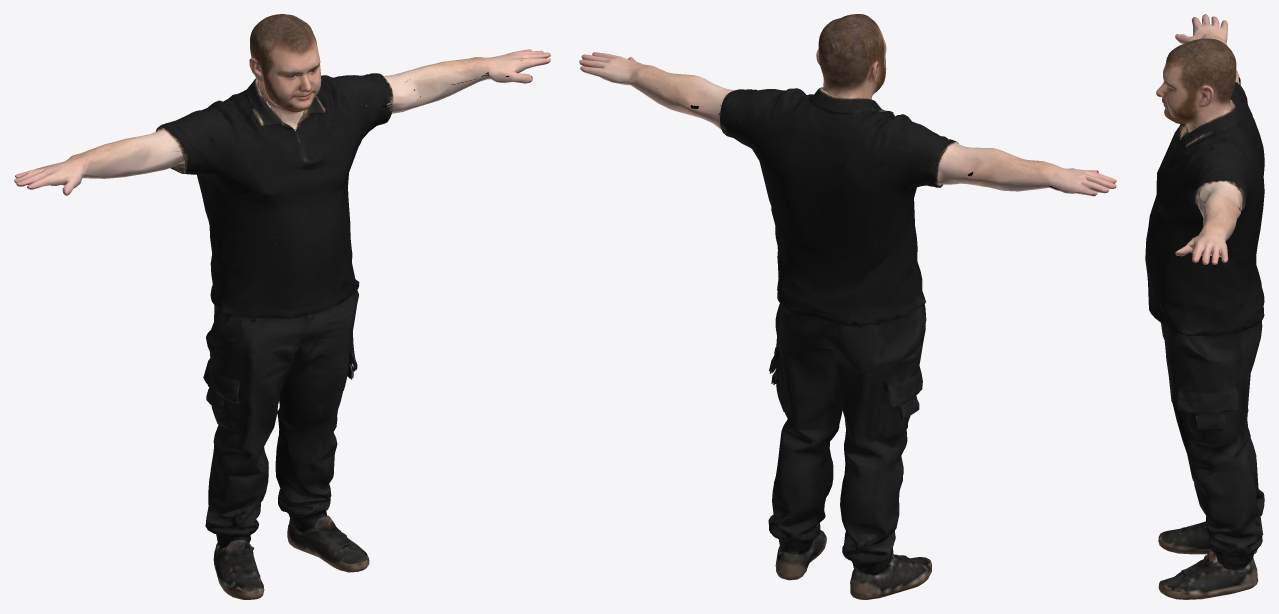
Rendered from aidanw.glb.
The picture shows the model from 3 angles, left to right: view 1: azimuth 30°, elevation 25°; view 2: azimuth 150°, elevation 25°; view 3: azimuth 270°, elevation 25°; orthographic projection. The views are drawn at different scales.
Visible parts, largest first — view 1: tommy; view 2: tommy; view 3: tommy.
Boxes of the visible parts, x1,y1,x2,y2 form: tommy: (14, 14, 550, 599); tommy: (579, 14, 1116, 599); tommy: (1145, 14, 1264, 599).
Bounding box in the file's own units: 1.69 × 1.68 × 0.3423.
1 material, 1 textured.
